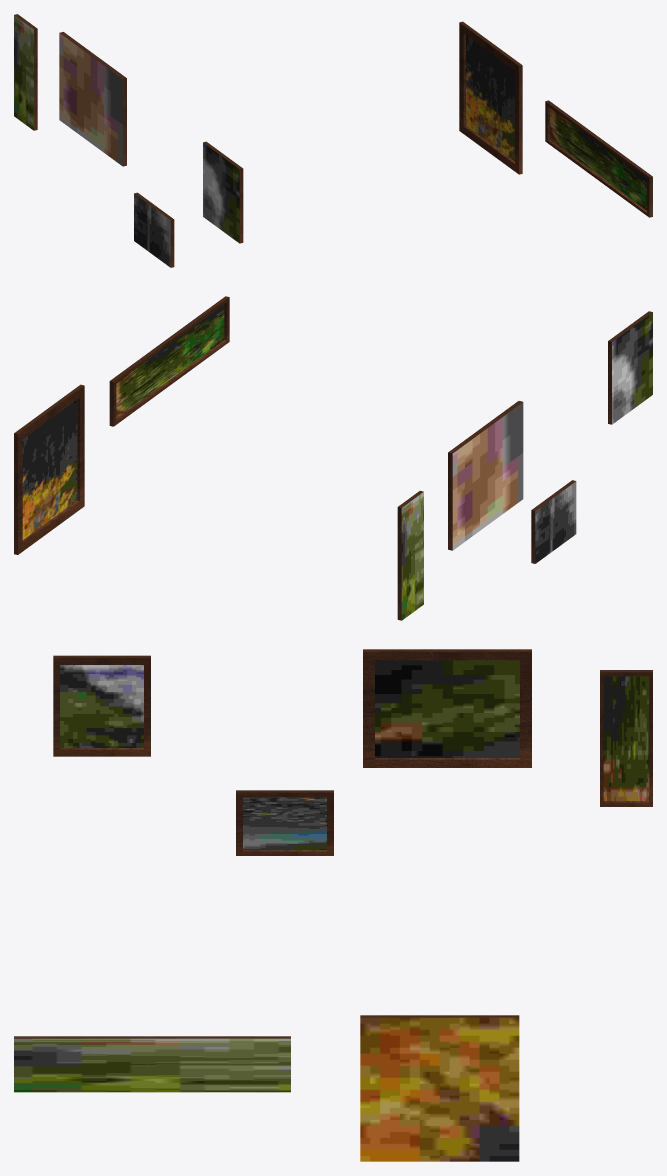
Rendered from Portraits.fbx.
3 views of the same model, one above another, from view 1: azimuth 30°, elevation 25°; view 2: azimuth 150°, elevation 25°; view 3: azimuth 270°, elevation 25° (orthographic). The views are drawn at different scales.
Visible parts, largest first — view 1: Big Portrait, Smallet Picture.003, Big Portrait.001, Smallet Picture.002, Smallet Picture.001, Smallet Picture; view 2: Big Portrait, Smallet Picture.003, Big Portrait.001, Smallet Picture.002, Smallet Picture.001, Smallet Picture; view 3: Big Portrait, Smallet Picture.003, Big Portrait.001, Smallet Picture.002, Smallet Picture.001, Smallet Picture.
Part boxes in pixels (box(x1,y1,x2,y2)): Big Portrait: box(459, 21, 522, 174); Smallet Picture.003: box(59, 32, 126, 166); Big Portrait.001: box(545, 100, 652, 217); Smallet Picture.002: box(203, 141, 243, 243); Smallet Picture.001: box(14, 14, 37, 130); Smallet Picture: box(134, 192, 174, 267); Big Portrait: box(14, 384, 84, 554); Smallet Picture.003: box(448, 401, 523, 550); Big Portrait.001: box(109, 296, 229, 426); Smallet Picture.002: box(608, 311, 652, 424); Smallet Picture.001: box(397, 491, 423, 620); Smallet Picture: box(531, 480, 576, 563); Big Portrait: box(360, 1015, 519, 1161); Smallet Picture.003: box(363, 649, 531, 767); Big Portrait.001: box(14, 1036, 290, 1092); Smallet Picture.002: box(53, 655, 150, 756); Smallet Picture.001: box(600, 670, 652, 806); Smallet Picture: box(236, 790, 333, 855).
Bounding box in the file's own units: 1807 × 827 × 1886.
